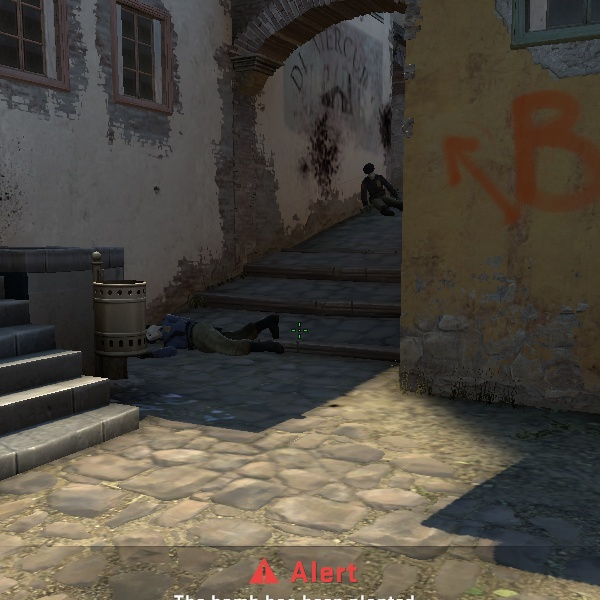ct_body: (357, 159, 400, 213)
